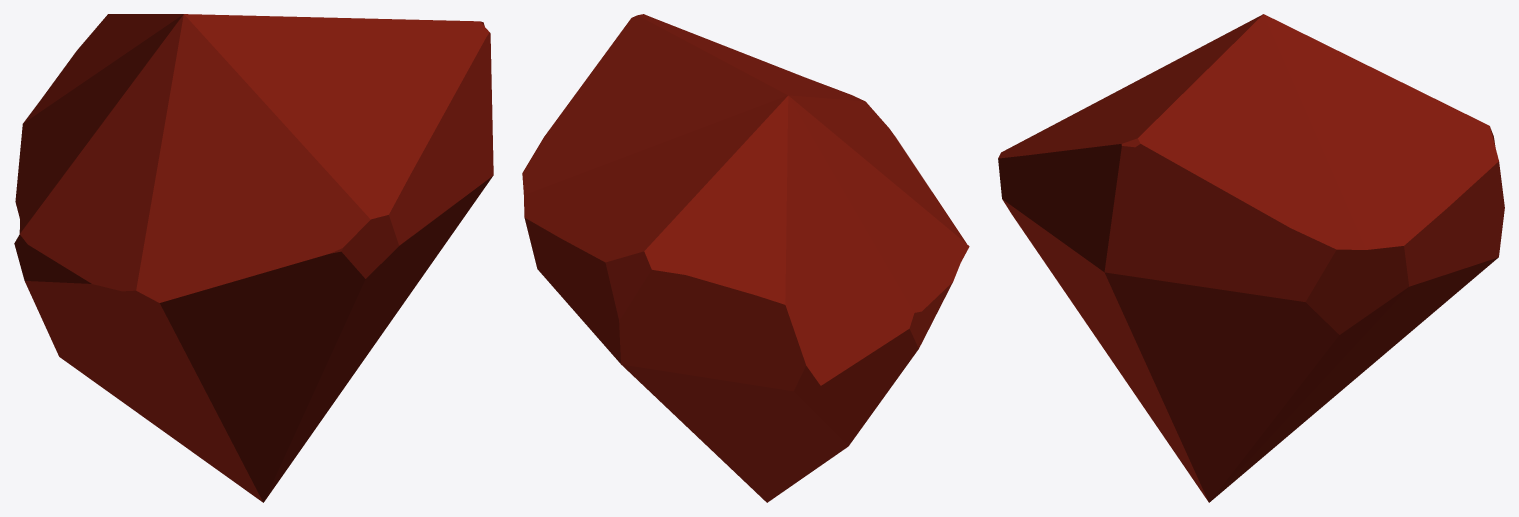
3 views of the same model, side by side, from view 1: azimuth 30°, elevation 25°; view 2: azimuth 150°, elevation 25°; view 3: azimuth 270°, elevation 25° (orthographic). The views are drawn at different scales.
Parts seen in each view (by area): view 1: GemBottom; view 2: GemBottom; view 3: GemBottom.
Part boxes in pixels (left/top/right/bottom): GemBottom: left=14, top=14, right=493, bottom=502; GemBottom: left=522, top=14, right=969, bottom=502; GemBottom: left=998, top=14, right=1504, bottom=502.
Size of the model in its own units: 17.6 by 19.93 by 19.7.
